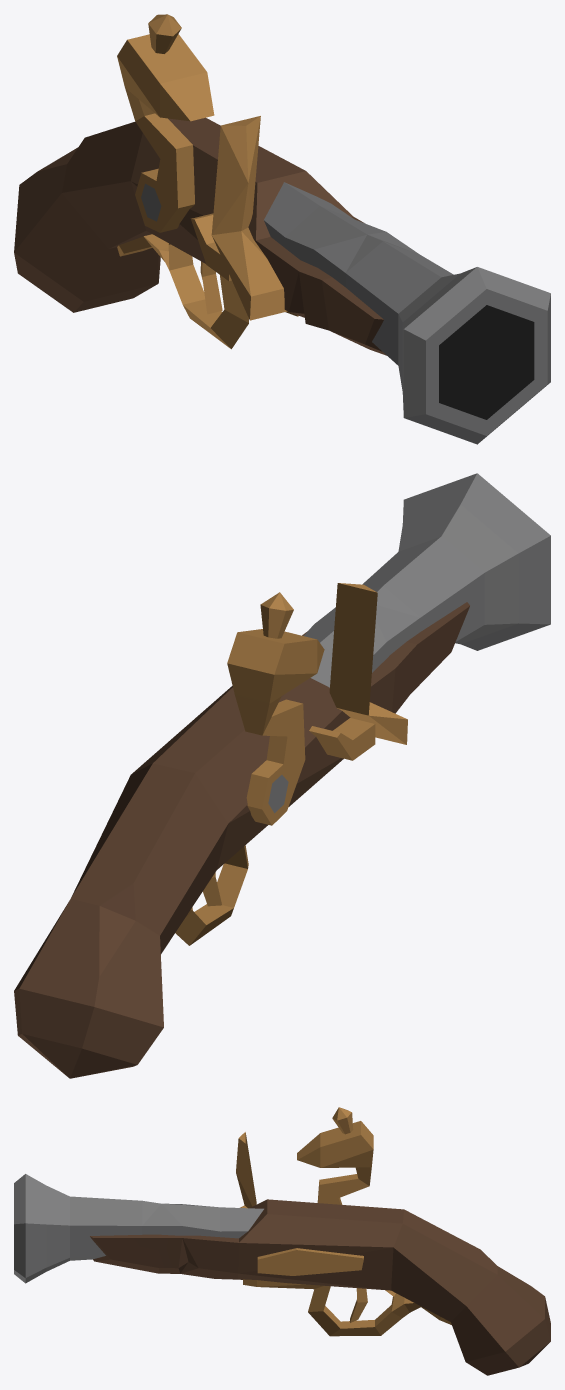
Rendered from SM_Wep_MusketPistol_05_Separate.glb.
The picture shows the model from 3 angles, top to bottom: view 1: azimuth 30°, elevation 25°; view 2: azimuth 150°, elevation 25°; view 3: azimuth 270°, elevation 25°; orthographic projection. The views are drawn at different scales.
Parts seen in each view (by area): view 1: SM_Wep_MusketPistol_05_Trigger; view 2: SM_Wep_MusketPistol_05_Trigger; view 3: SM_Wep_MusketPistol_05_Trigger.
Boxes of the visible parts, x1,y1,x2,y2 form: SM_Wep_MusketPistol_05_Trigger: (14, 14, 550, 444); SM_Wep_MusketPistol_05_Trigger: (14, 473, 550, 1078); SM_Wep_MusketPistol_05_Trigger: (14, 1107, 550, 1375).
Size of the model in its own units: 0.000955 by 0.00233 by 0.00468.
